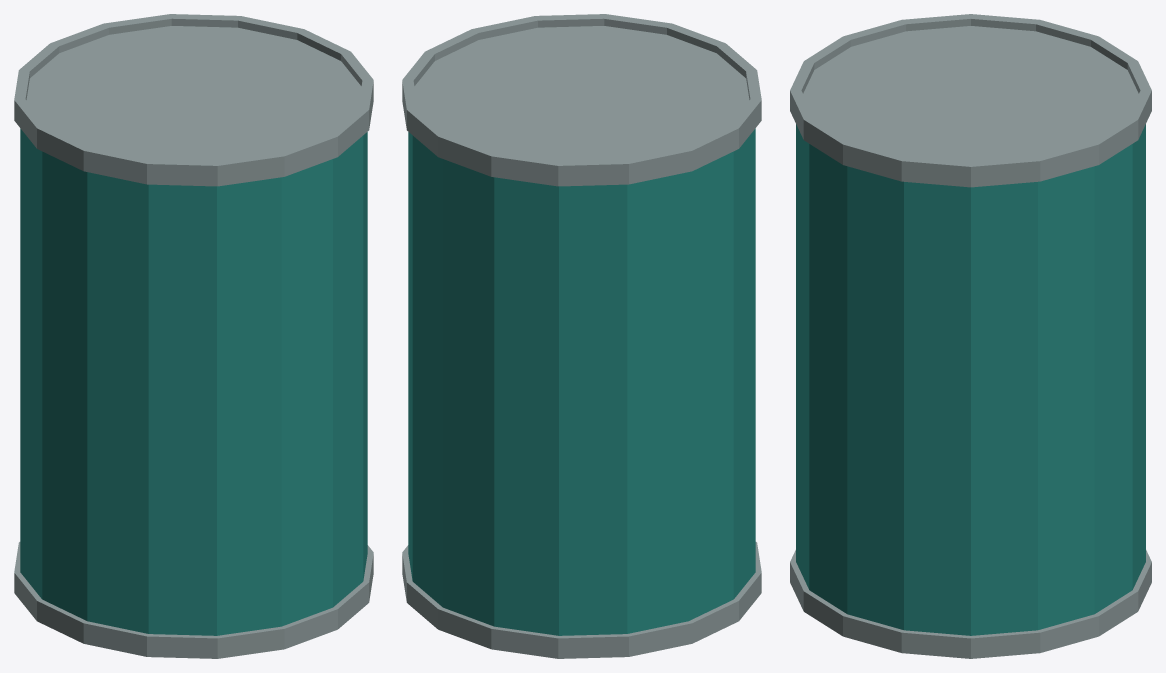
The model's file is Can_02.fbx.
The picture shows the model from 3 angles, left to right: view 1: azimuth 30°, elevation 25°; view 2: azimuth 150°, elevation 25°; view 3: azimuth 270°, elevation 25°; orthographic projection.
Parts seen in each view (by area): view 1: Cylinder001.001; view 2: Cylinder001.001; view 3: Cylinder001.001.
Part boxes in pixels (<box>): Cylinder001.001: <box>14,14,373,658</box>; Cylinder001.001: <box>402,14,761,658</box>; Cylinder001.001: <box>790,14,1151,658</box>.
Bounding box in the file's own units: 16 × 24 × 16.
